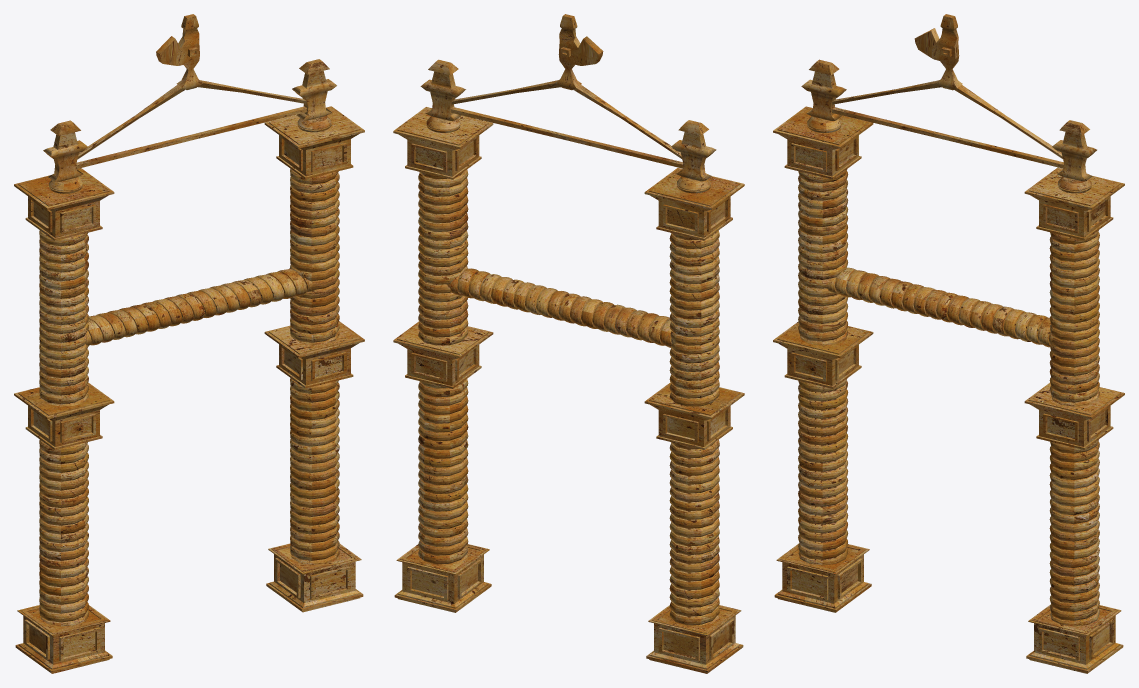
Rendered from gate.glb.
3 renders of one model, left to right at view 1: azimuth 30°, elevation 25°; view 2: azimuth 150°, elevation 25°; view 3: azimuth 330°, elevation 25°, orthographic.
Visible parts, largest first — view 1: Gate; view 2: Gate; view 3: Gate.
Part boxes in pixels (bbox=[...]): Gate: bbox=[14, 14, 364, 673]; Gate: bbox=[393, 14, 744, 673]; Gate: bbox=[773, 14, 1124, 673].
Bounding box in the file's own units: 1.54 × 2.81 × 0.3028.
Materials: 2 (2 with a texture image).
